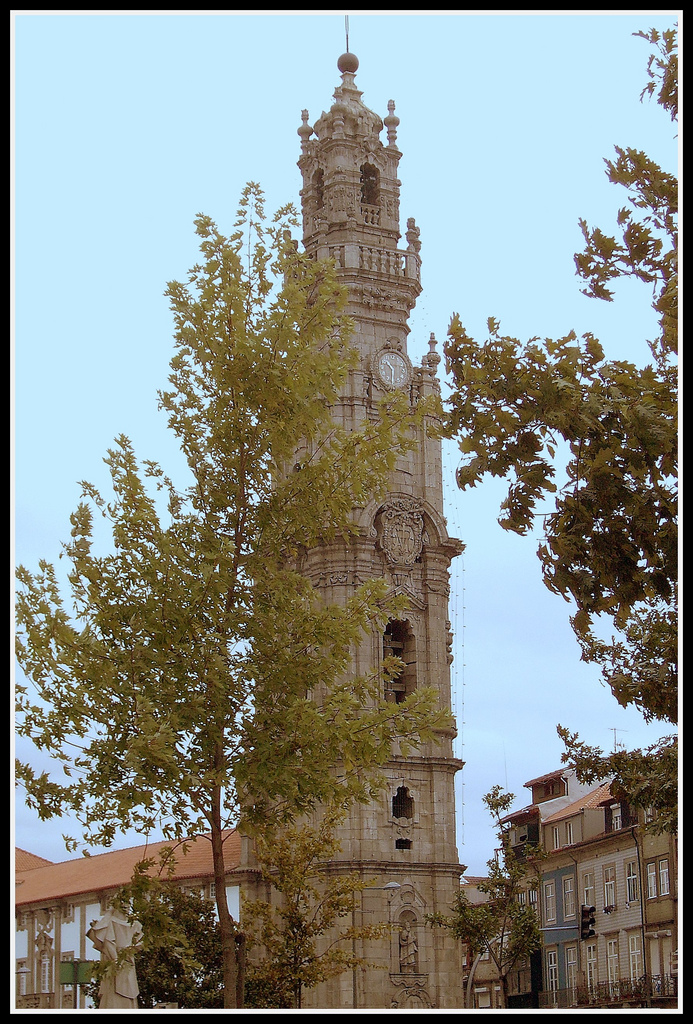clerigos: (256, 16, 467, 1023)
